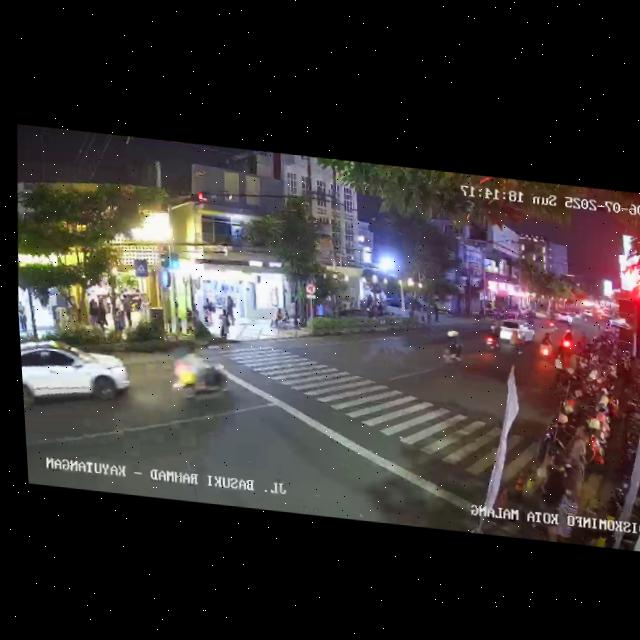car: (20, 338, 132, 422), (494, 318, 538, 350)
motorcycle: (166, 344, 236, 408), (438, 326, 466, 369), (537, 332, 557, 366), (483, 326, 503, 357), (561, 322, 577, 350)
person: (120, 293, 135, 330), (96, 296, 110, 333), (218, 308, 232, 340), (18, 300, 30, 333), (87, 299, 100, 328), (226, 295, 238, 325), (203, 300, 214, 332), (432, 302, 442, 324), (425, 303, 433, 326)
